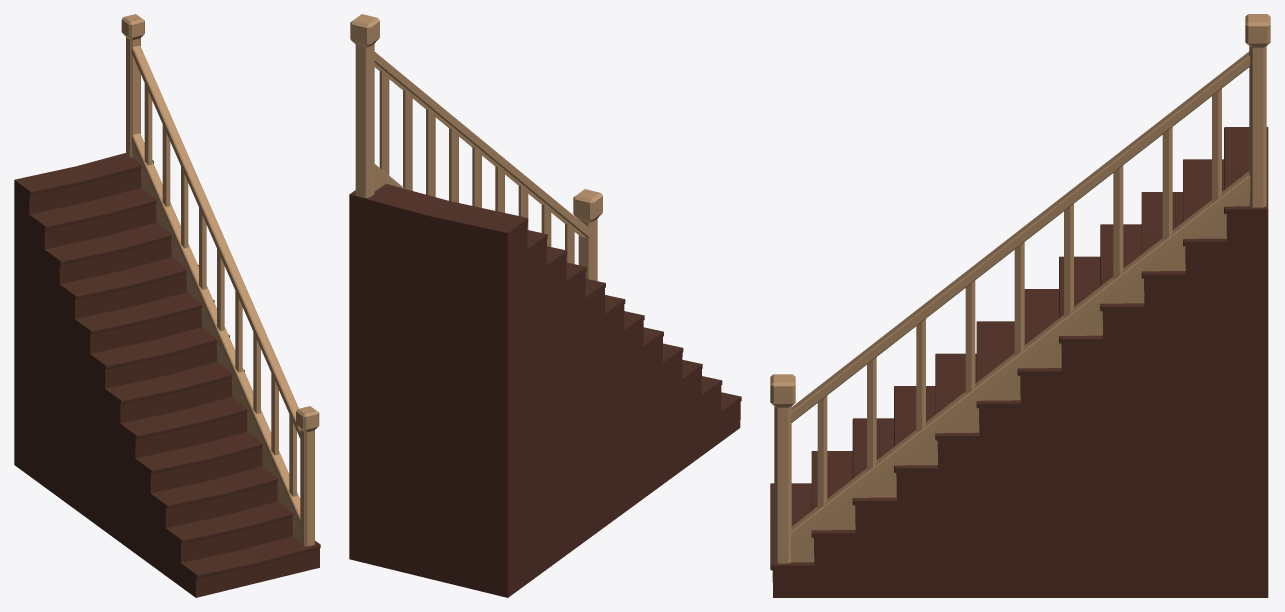
File: staircase-b.glb
3 views of the same model, side by side, from view 1: azimuth 30°, elevation 25°; view 2: azimuth 150°, elevation 25°; view 3: azimuth 270°, elevation 25° (orthographic). The views are drawn at different scales.
Parts seen in each view (by area): view 1: Staircase B (×2); view 2: Staircase B (×2); view 3: Staircase B (×2).
Boxes of the visible parts, x1,y1,x2,y2 form: Staircase B (×2): (14,14,320,597); Staircase B (×2): (349,14,741,597); Staircase B (×2): (770,14,1270,597).
Size of the model in its own units: 1 by 3.25 by 2.57.
